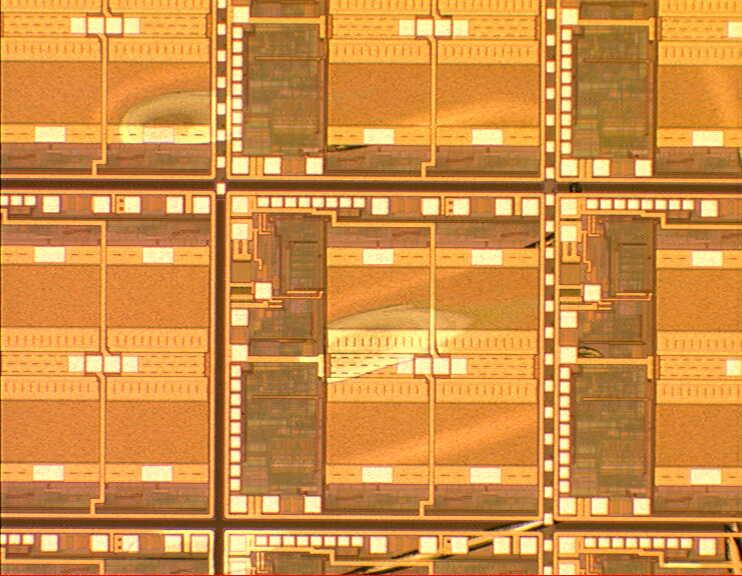COATING BAD: (78, 41, 742, 576)
